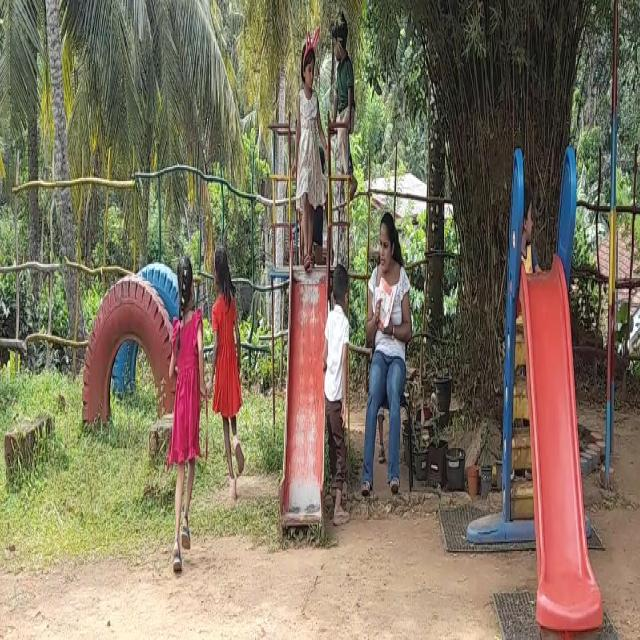adult: (364, 180, 414, 492)
child: (163, 242, 207, 570), (210, 238, 248, 488), (290, 20, 324, 258), (322, 268, 353, 511), (331, 7, 359, 230)
